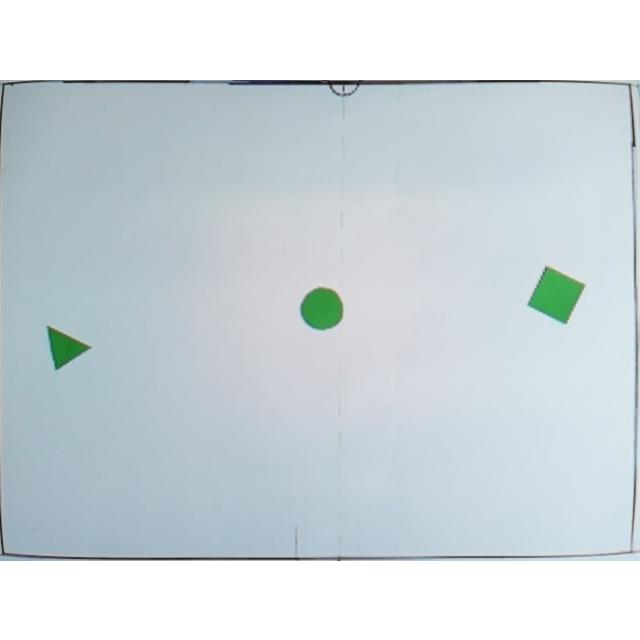greenCircle: (300, 284, 346, 332)
greenSquare: (527, 262, 587, 322)
greenTriangle: (46, 321, 92, 371)
